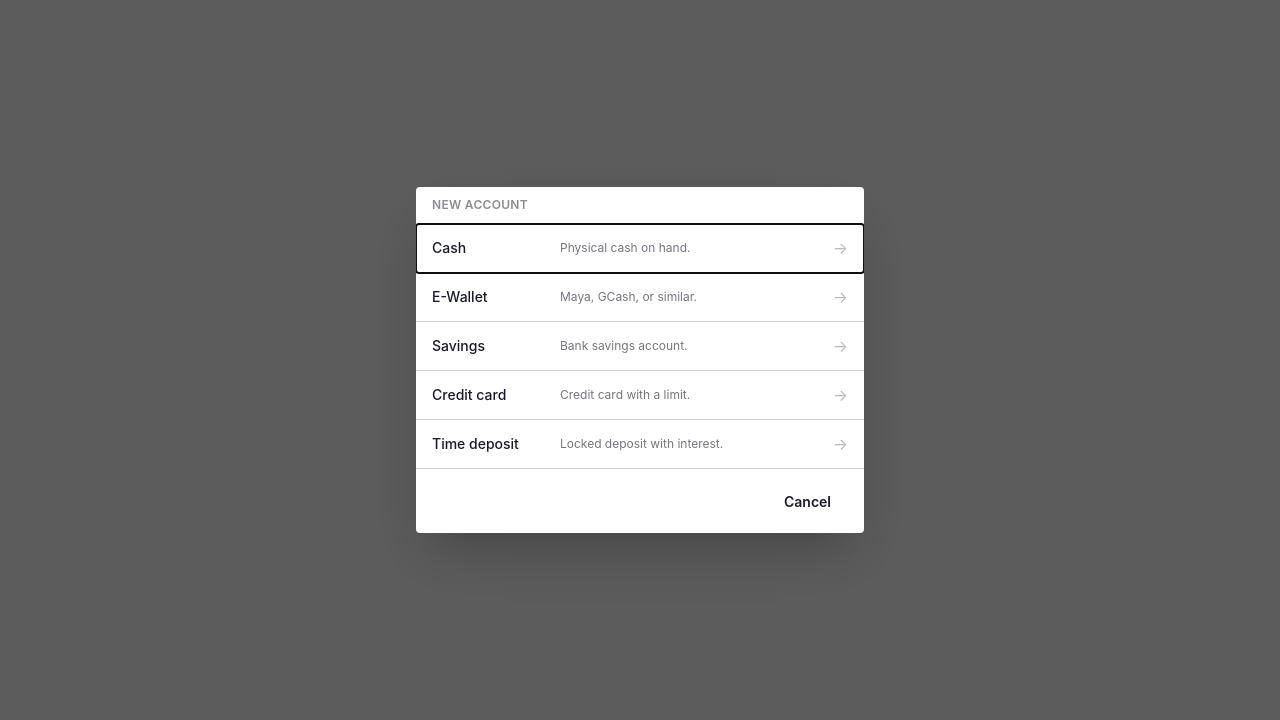
Test: NewAccountModal — type picker › reveals credit-specific fields after picking Credit card
Click the button "Credit card Credit card with a limit. →".
click(640, 396)  # box [416, 371, 864, 420]
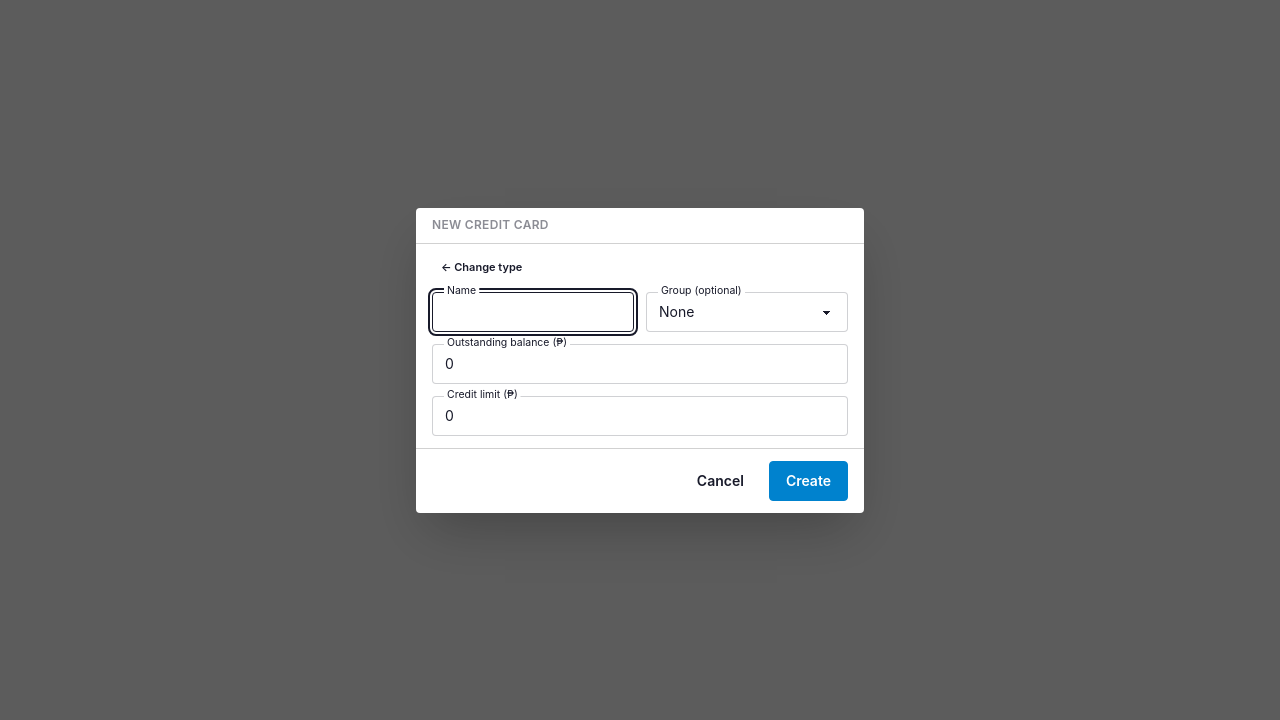
Result: the number field labelled "Credit limit (₱)" is shown at [432, 396, 848, 436]
